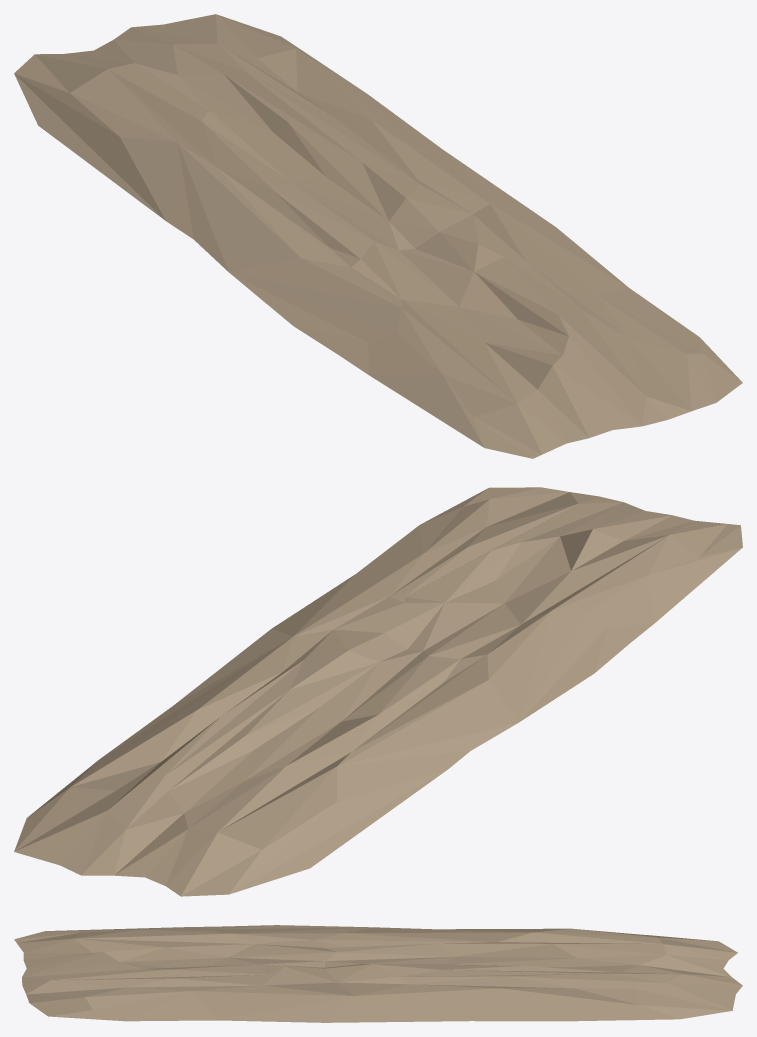
File: SM_Env_DirtRoad_Straight_01.fbx
The picture shows the model from 3 angles, top to bottom: view 1: azimuth 30°, elevation 25°; view 2: azimuth 150°, elevation 25°; view 3: azimuth 270°, elevation 25°; orthographic projection. The views are drawn at different scales.
Parts seen in each view (by area): view 1: SM_Env_DirtRoad_Straight_01; view 2: SM_Env_DirtRoad_Straight_01; view 3: SM_Env_DirtRoad_Straight_01.
Part boxes in pixels (box(x1,y1,x2,y2)): SM_Env_DirtRoad_Straight_01: box(14, 14, 742, 458); SM_Env_DirtRoad_Straight_01: box(14, 487, 742, 896); SM_Env_DirtRoad_Straight_01: box(14, 925, 742, 1022).
Bounding box in the file's own units: 268 × 31.27 × 843.
